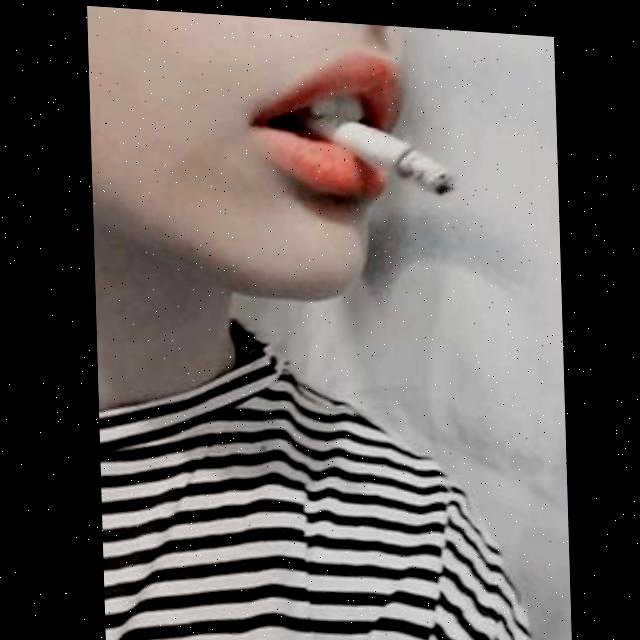cigarette: (309, 108, 455, 188)
